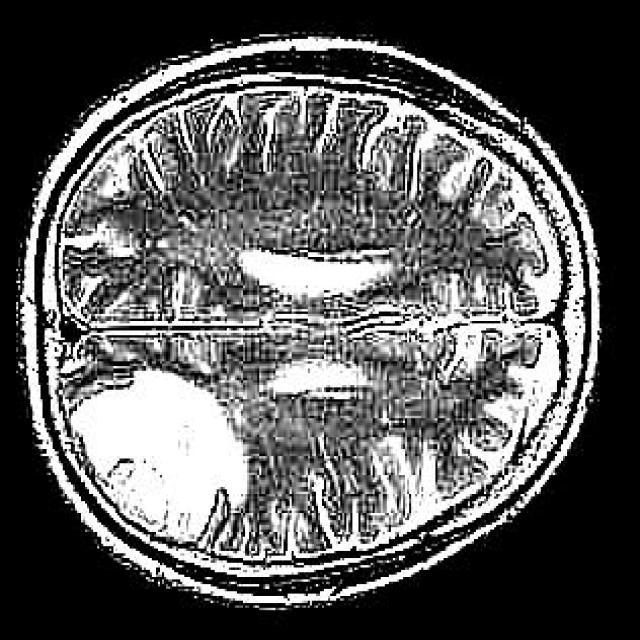tumor: (71, 367, 249, 545)
